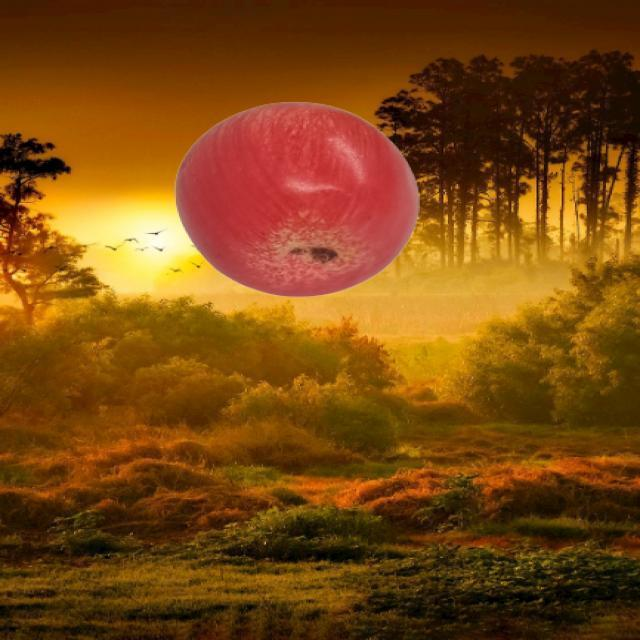apple: (173, 102, 420, 298)
